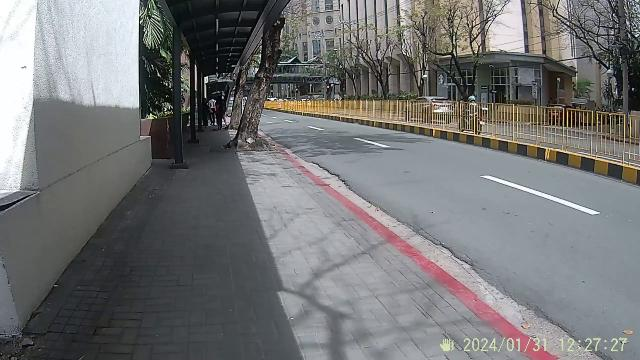tree: (222, 1, 292, 150)
utility_post: (608, 0, 636, 108)
